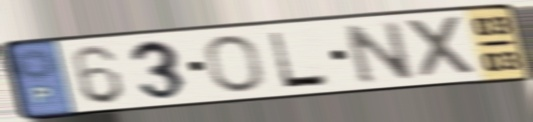3: (128, 36, 197, 104)
6: (69, 41, 127, 108)
L: (264, 28, 334, 90)
N: (339, 18, 419, 87)
O: (202, 33, 268, 94)
X: (402, 13, 481, 82)
